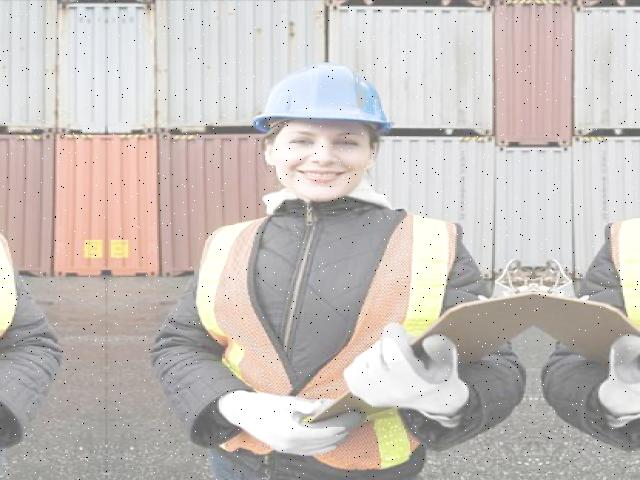Helmet: (246, 57, 399, 150)
